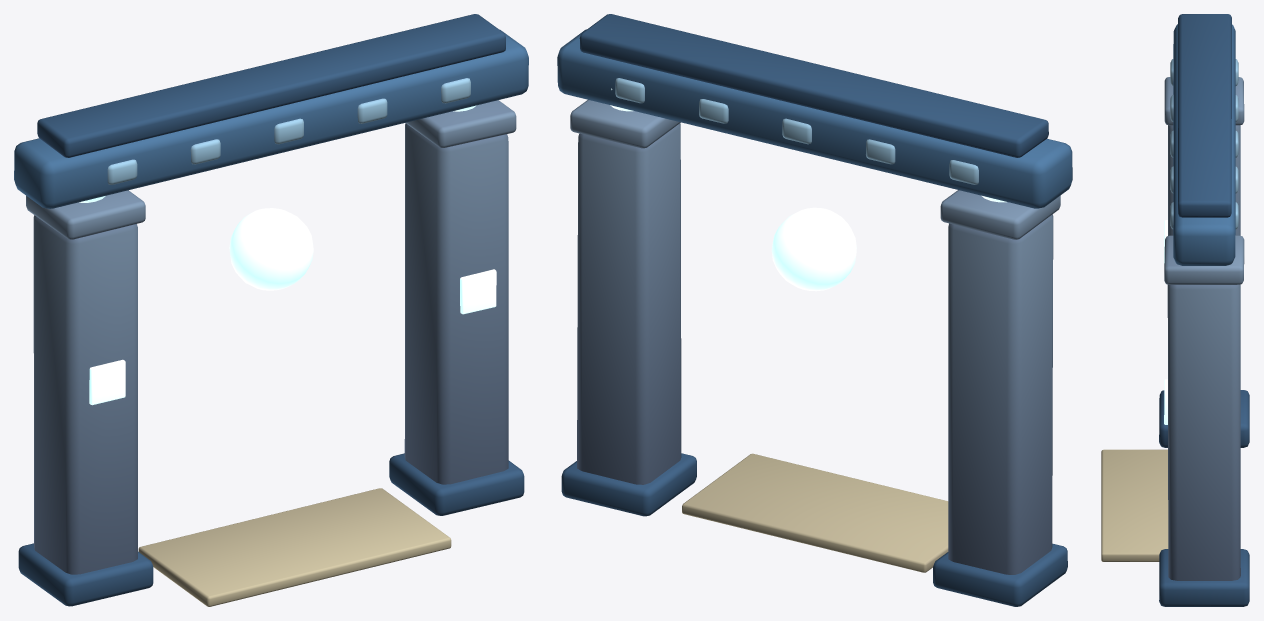
3 views of the same model, side by side, from view 1: azimuth 30°, elevation 25°; view 2: azimuth 150°, elevation 25°; view 3: azimuth 270°, elevation 25° (orthographic). The views are drawn at different scales.
Visible parts, largest first — view 1: gate_0060beaa; view 2: gate_0060beaa; view 3: gate_0060beaa.
Part boxes in pixels (left/top/right/bottom): gate_0060beaa: left=14, top=14, right=528, bottom=606; gate_0060beaa: left=557, top=14, right=1072, bottom=606; gate_0060beaa: left=1101, top=14, right=1249, bottom=606.
Size of the model in its own units: 4.8 by 4.32 by 1.44.
